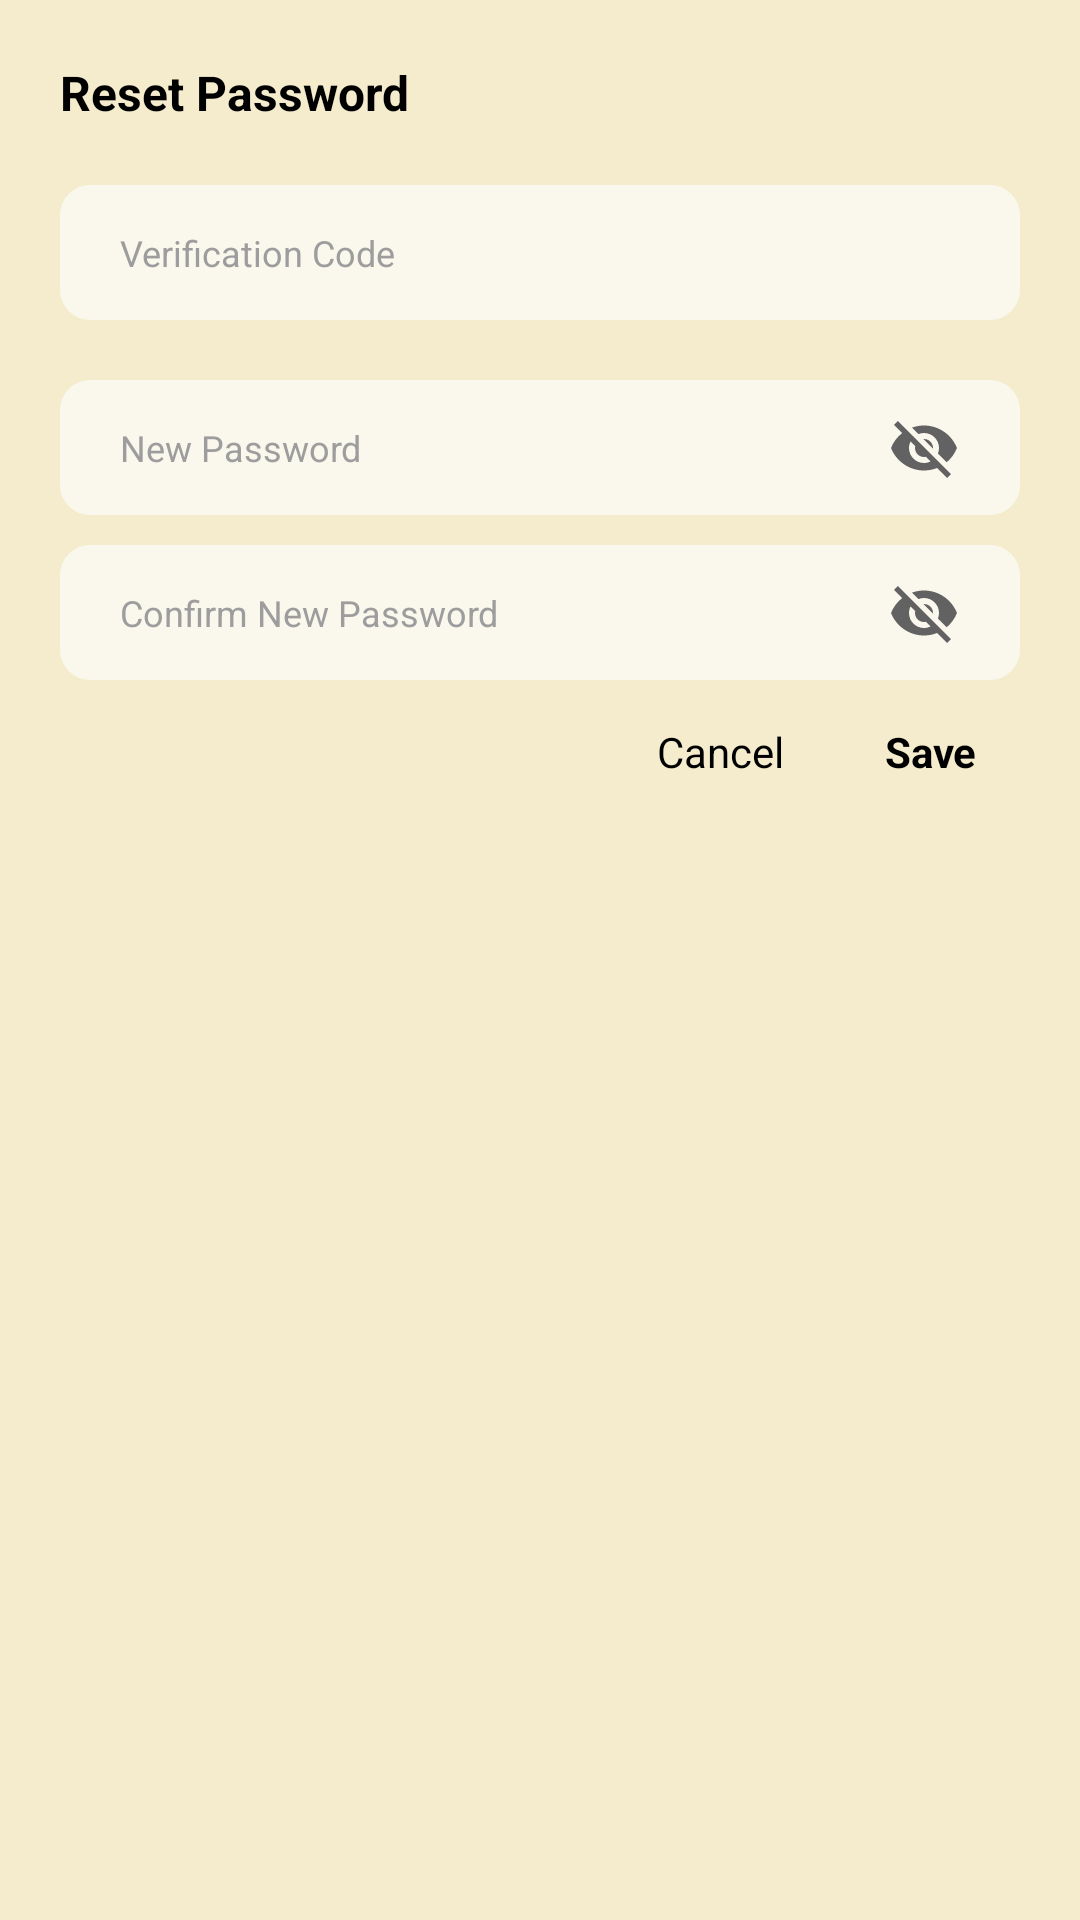

Icons on this 1080w x 1920h Android screen, each with the point to tap as point (x, y):
visibility off: point (924, 449), point (924, 614)
